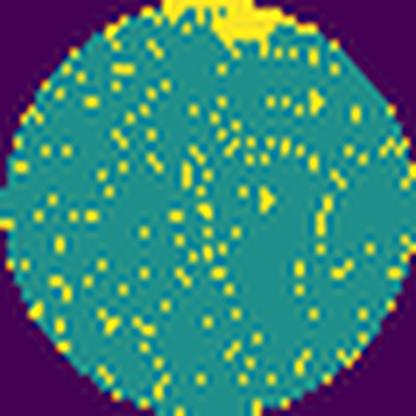Edge-Loc: (154, 0, 316, 52)
